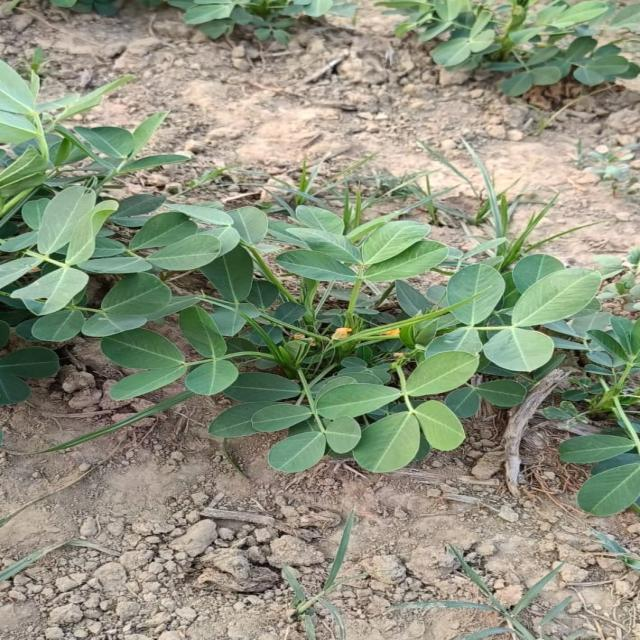plant: (0, 69, 639, 514)
